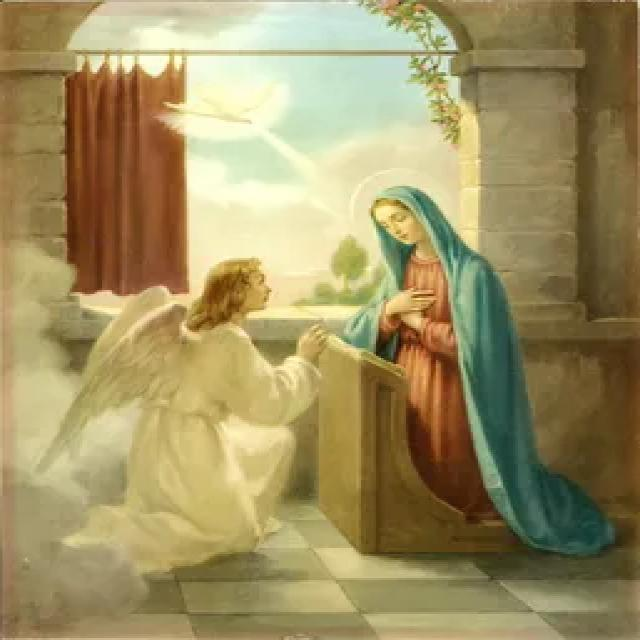mother of god: (340, 173, 612, 557)
